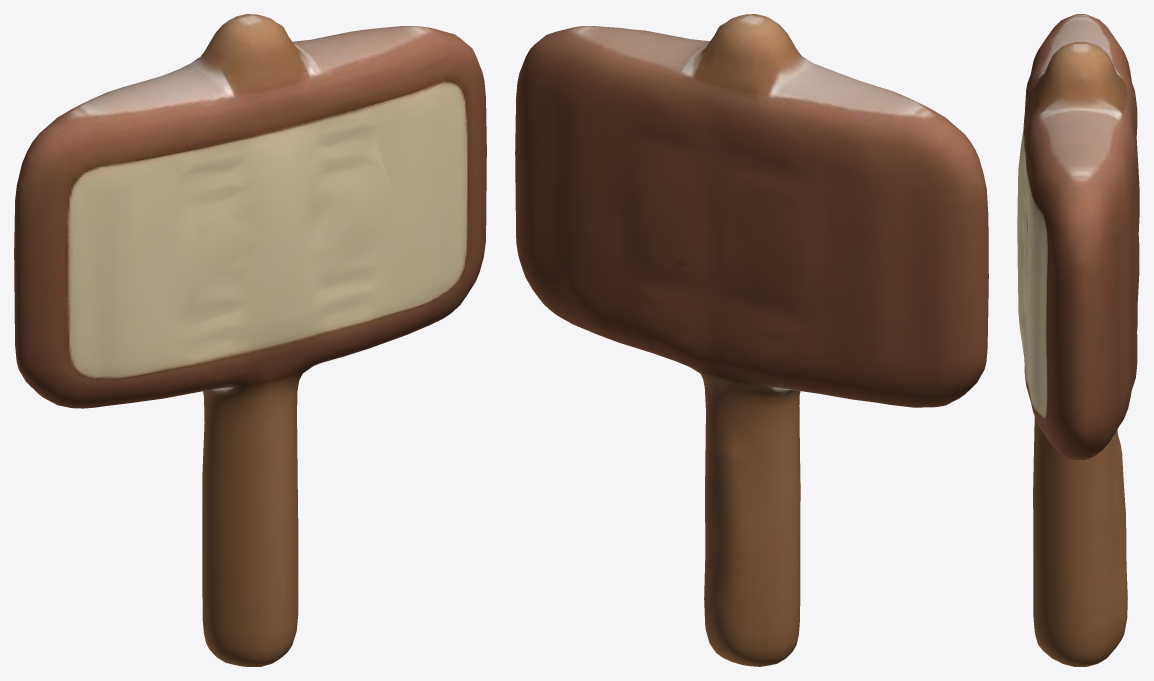
The model's file is sign.glb.
The picture shows the model from 3 angles, left to right: view 1: azimuth 30°, elevation 25°; view 2: azimuth 150°, elevation 25°; view 3: azimuth 270°, elevation 25°; orthographic projection. The views are drawn at different scales.
Visible parts, largest first — view 1: prop; view 2: prop; view 3: prop.
Part boxes in pixels (x1=…): prop: x1=14, y1=14, x2=486, y2=666; prop: x1=515, y1=14, x2=988, y2=666; prop: x1=1017, y1=14, x2=1139, y2=666.
Bounding box in the file's own units: 1.39 × 1.81 × 0.3286.
1 material, 1 textured.
